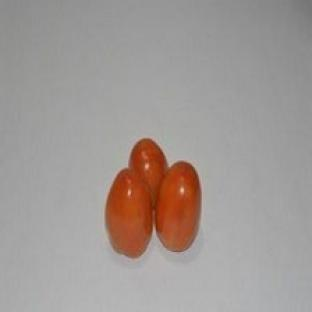Tomato: (105, 169, 153, 257), (156, 162, 200, 252), (129, 138, 167, 203)
